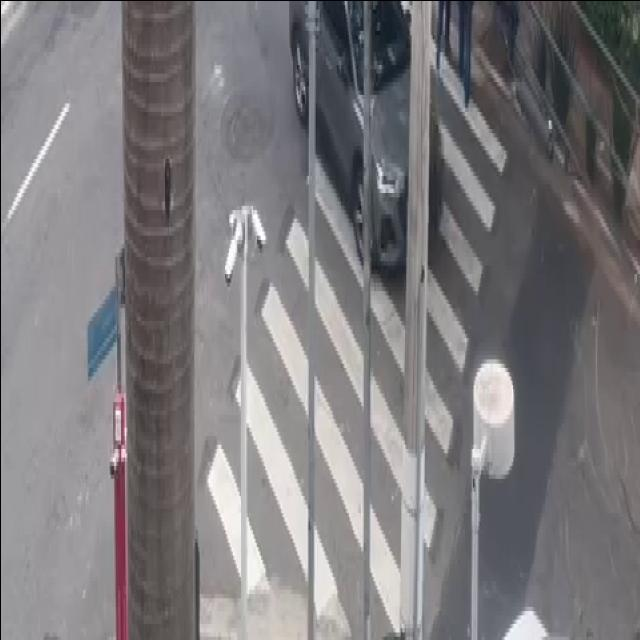car: (285, 0, 444, 289)
